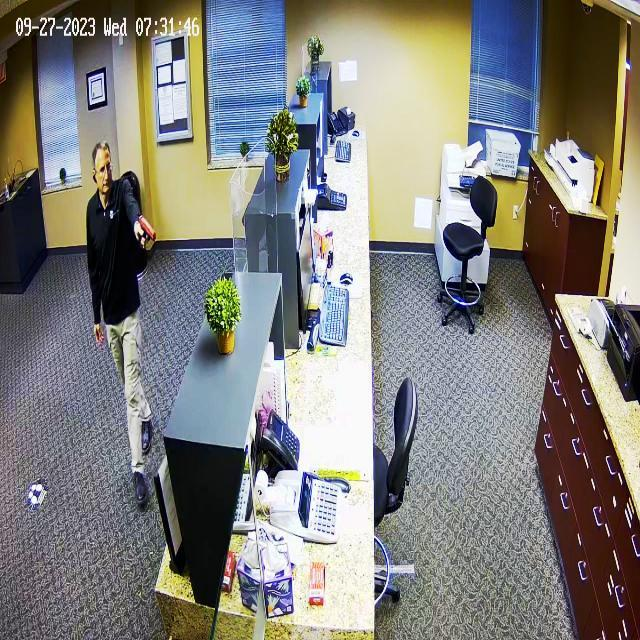Gun: (132, 212, 160, 253)
